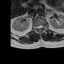CCS_normal: (39, 23, 41, 31)
LFS_normal: (42, 24, 44, 29)
LLS_normal: (41, 24, 42, 30)
RFS_normal: (35, 24, 37, 29)
RLS_normal: (37, 24, 39, 30)
